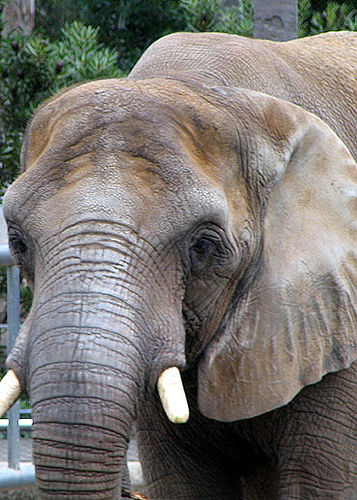elephant: (1, 24, 357, 493)
